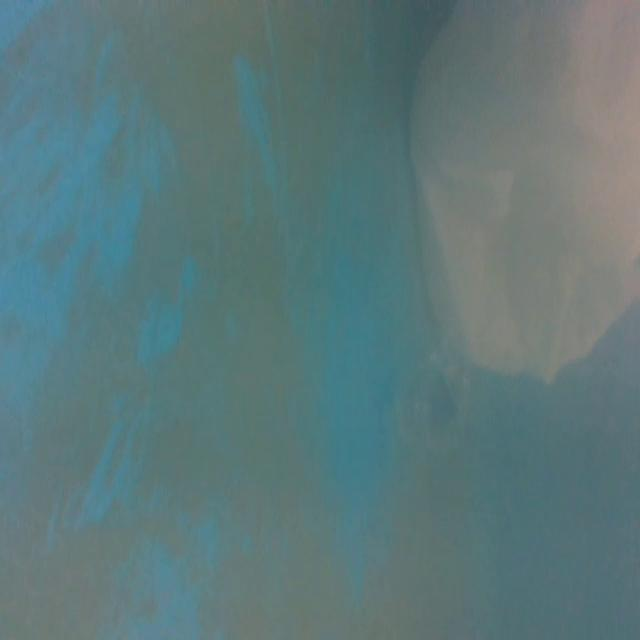plastic bags: (404, 0, 636, 389)
